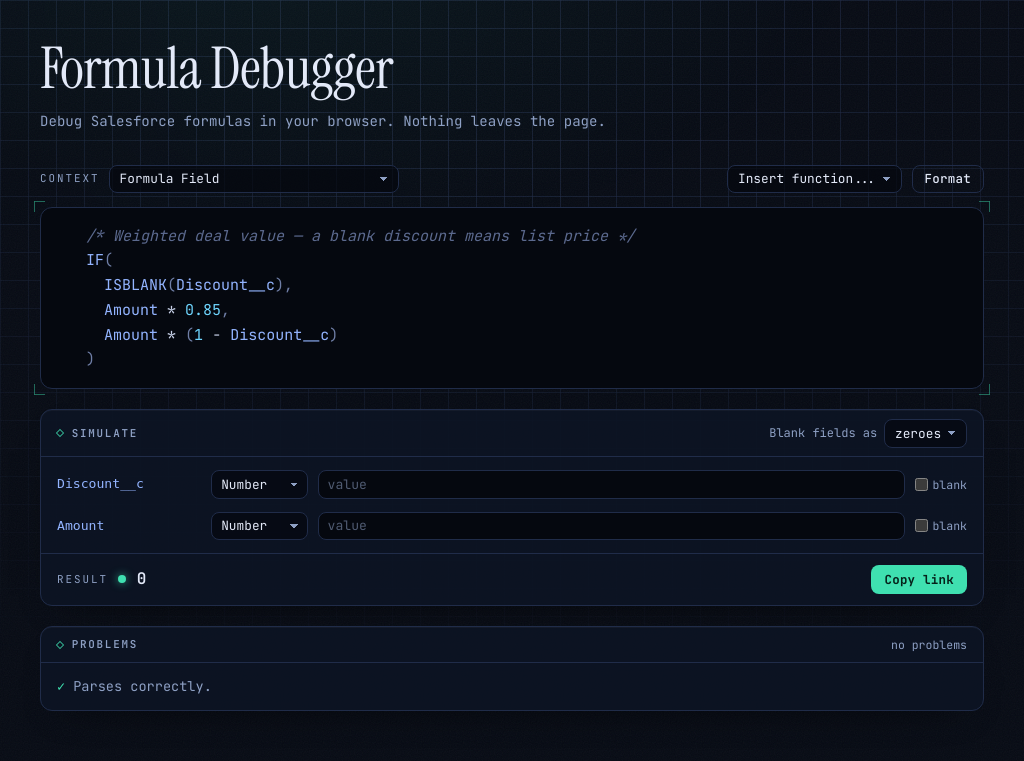
simulates the formula live from field inputs
Expected: the text "Simulate" is shown, [57,425,138,442]
Type "0.25" into the 1st field with placeholder "value" at (611,484), box [318,470,905,499]
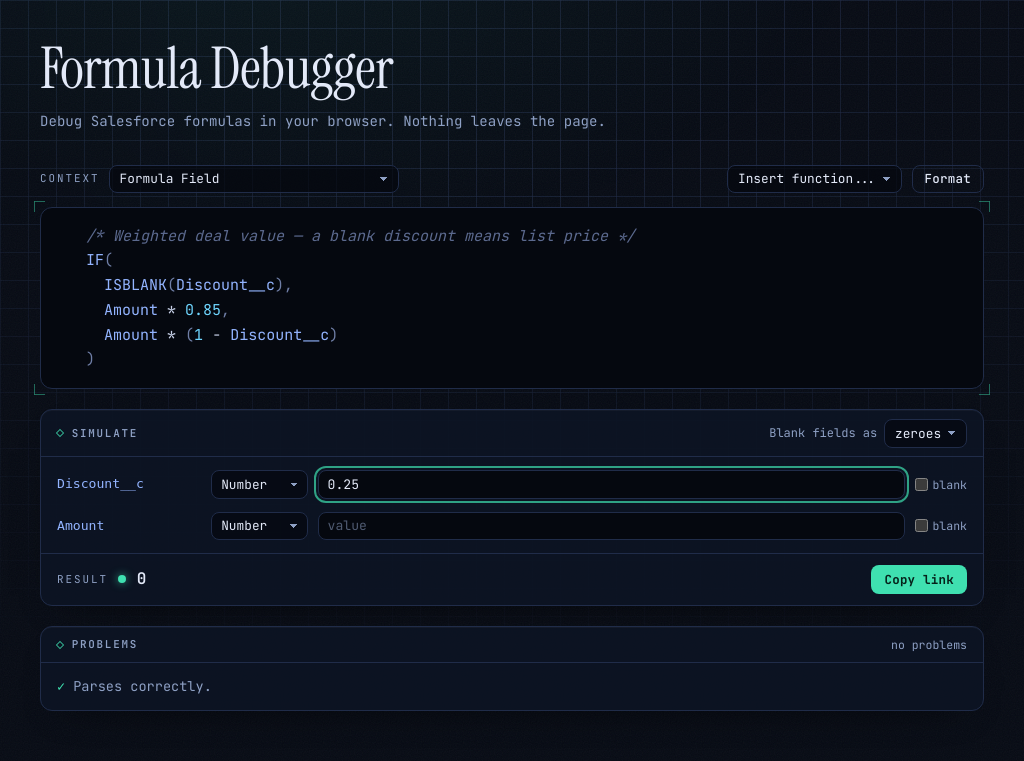
Type "200" into the field with placeholder "value" at (611,526), box [318,512,905,540]
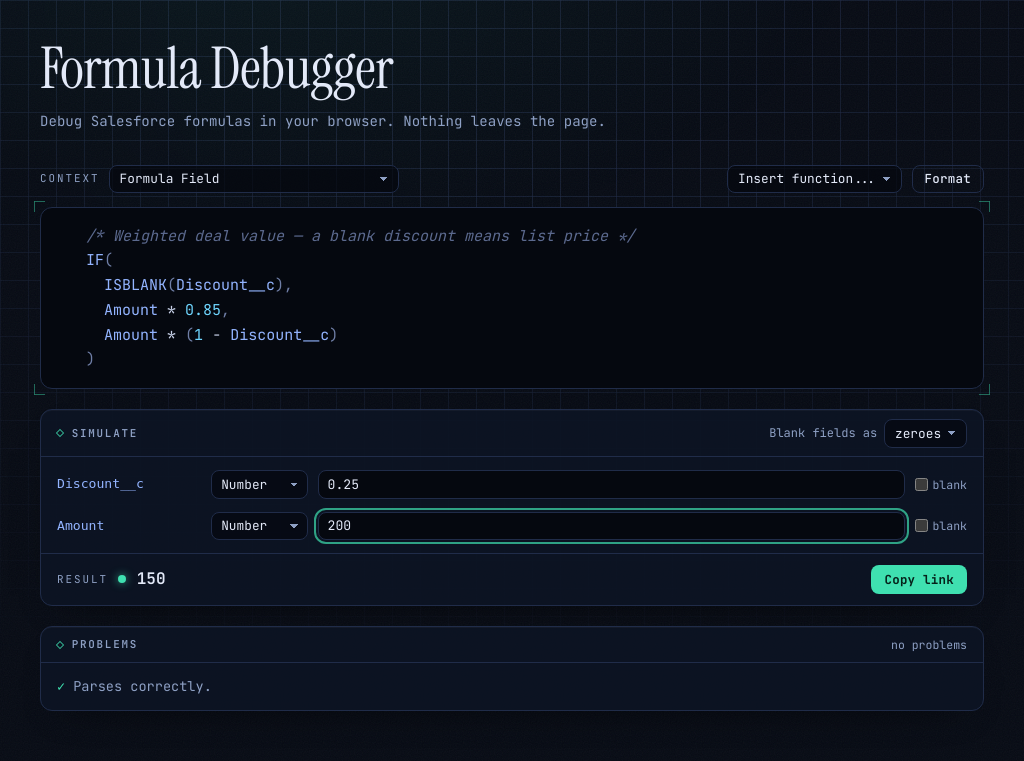
Expected: the text "150" is shown, [137,567,166,592]
